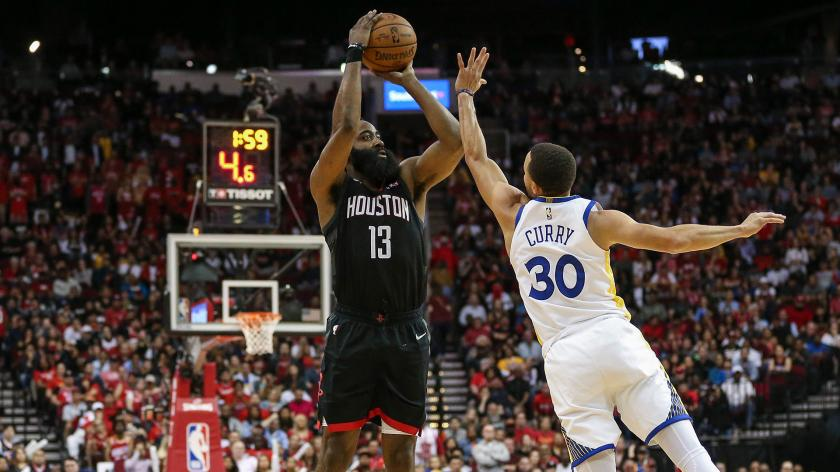Jumpshot: (331, 9, 465, 165)
